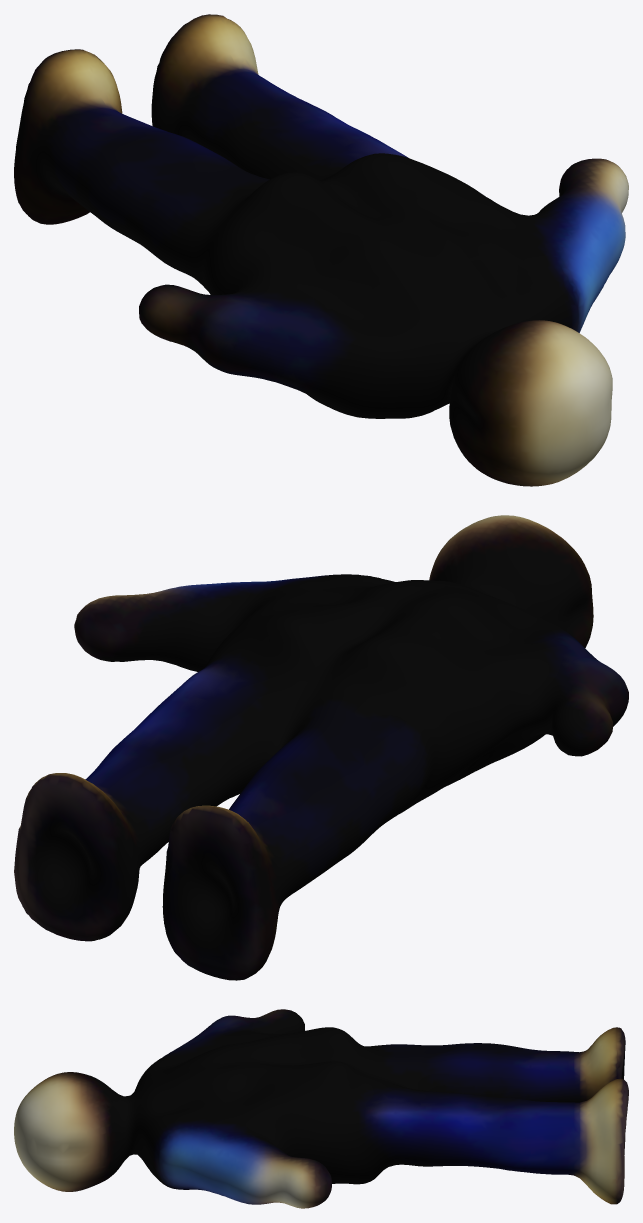
Rendered from grandfather.glb.
The picture shows the model from 3 angles, top to bottom: view 1: azimuth 30°, elevation 25°; view 2: azimuth 150°, elevation 25°; view 3: azimuth 270°, elevation 25°; orthographic projection. The views are drawn at different scales.
Size of the model in its own units: 0.6769 by 0.239 by 0.9998.
